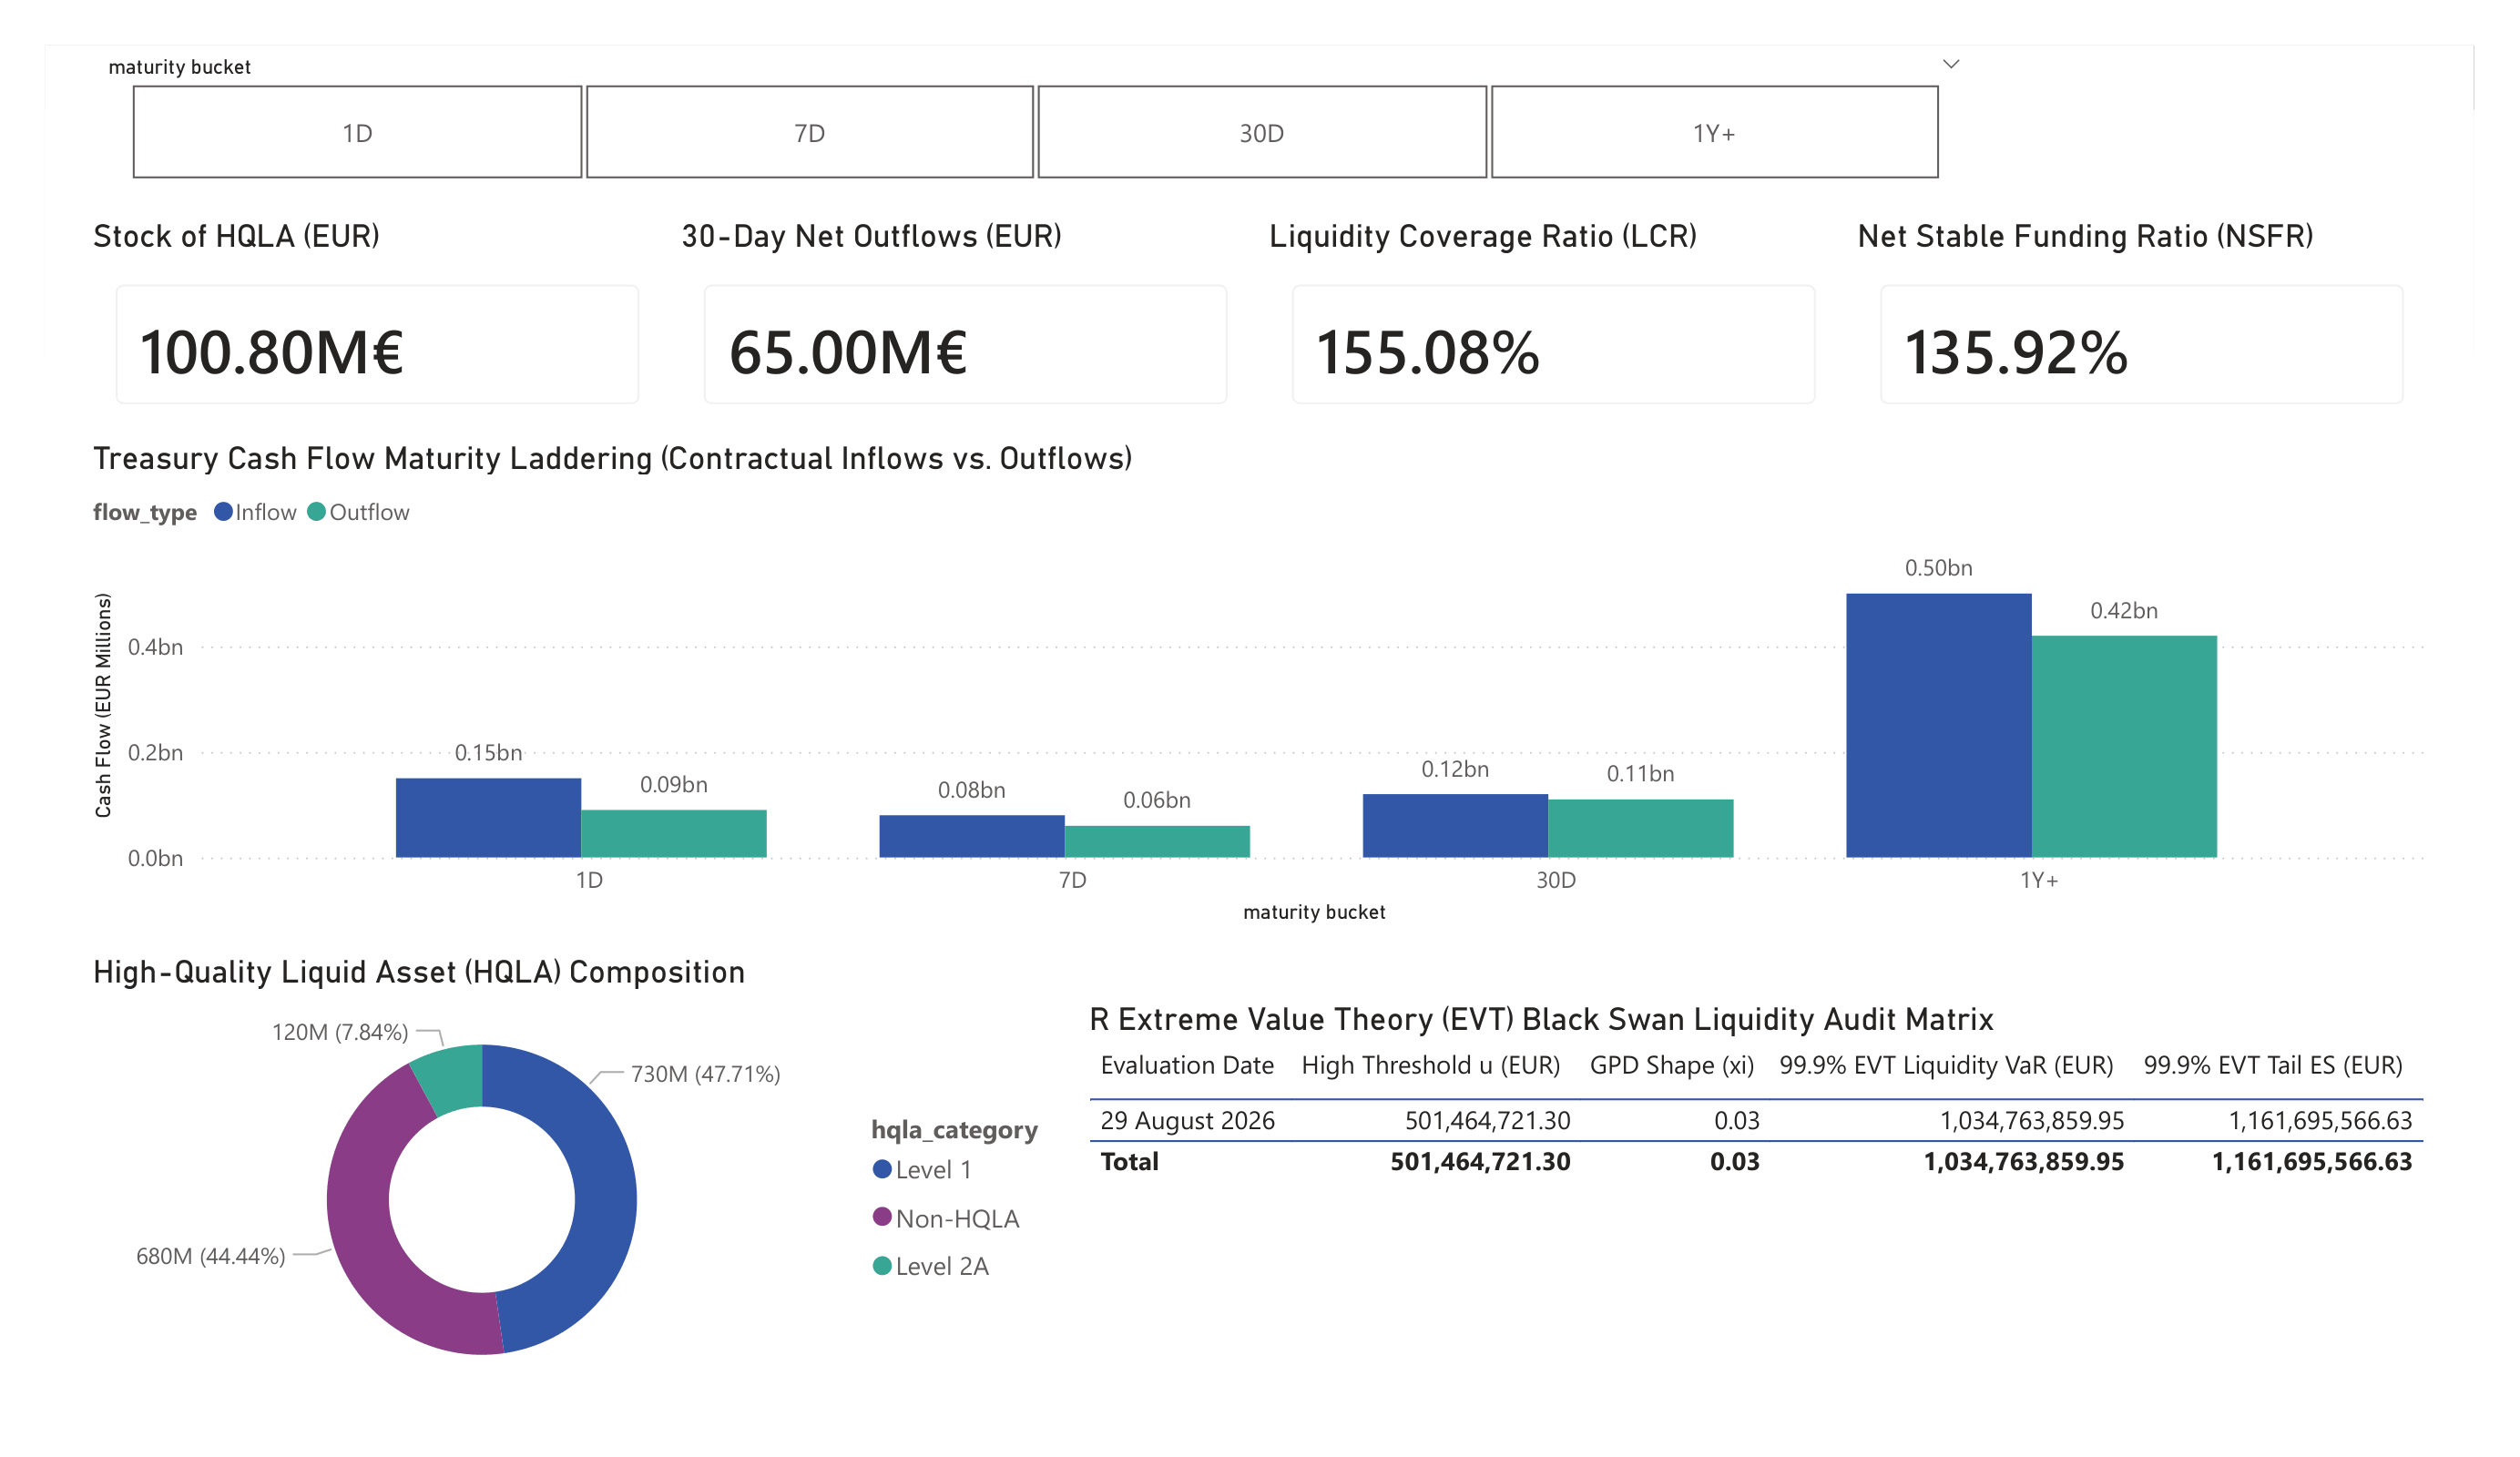

Layout of this report page (visuals, bound fields, positions):
{"tool":"powerbi","page":{"name":"1. Regulatory Liquidity (LCR/NSFR)","canvas":[1280,720],"ordinal":0},"visuals":[{"type":"cardVisual","title":"Stock of HQLA (EUR)","fields":{"Data":["_Liquidity & CCR Measures.Total Stock of HQLA EUR"]},"box":[20,90,310,116.7],"z":0},{"type":"cardVisual","title":"30-Day Net Outflows (EUR)","fields":{"Data":["_Liquidity & CCR Measures.30-Day Stressed Net Cash Outflows EUR"]},"box":[330,90,310,116.7],"z":1},{"type":"cardVisual","title":"Liquidity Coverage Ratio (LCR)","fields":{"Data":["_Liquidity & CCR Measures.Liquidity Coverage Ratio (LCR) %"]},"box":[640,90,310,116.7],"z":2},{"type":"cardVisual","title":"Net Stable Funding Ratio (NSFR)","fields":{"Data":["_Liquidity & CCR Measures.Net Stable Funding Ratio (NSFR) %"]},"box":[950,90,310,116.7],"z":3},{"type":"clusteredColumnChart","title":"Treasury Cash Flow Maturity Laddering (Contractual Inflows vs. Outflows)","fields":{"Category":["vw_cashflow_maturity_ladder.maturity_bucket"],"Y":["Sum(vw_cashflow_maturity_ladder.amount_eur)"],"Series":["vw_cashflow_maturity_ladder.flow_type"]},"box":[20,206.7,1240,261.7],"z":4},{"type":"donutChart","title":"High-Quality Liquid Asset (HQLA) Composition","fields":{"Category":["vw_cashflow_maturity_ladder.hqla_category"],"Y":["Sum(vw_cashflow_maturity_ladder.amount_eur)"]},"box":[20,478.3,525,241.7],"z":5},{"type":"tableEx","title":"R Extreme Value Theory (EVT) Black Swan Liquidity Audit Matrix","fields":{"Values":["vw_evt_liquidity_tail_risk_summary.calc_date","Sum(vw_evt_liquidity_tail_risk_summary.threshold_u)","Sum(vw_evt_liquidity_tail_risk_summary.gpd_shape_xi)","Sum(vw_evt_liquidity_tail_risk_summary.evt_var_999_eur)","Sum(vw_evt_liquidity_tail_risk_summary.evt_es_999_eur)"]},"box":[545,503.3,715,143.3],"z":6},{"type":"slicer","fields":{"Values":["vw_cashflow_maturity_ladder.maturity_bucket"]},"box":[20,0,1001.7,76.7],"z":7}]}

Visuals, with their boxes on the page's 1280x720 design canvas (x1, y1, x2, y2). These are canvas units, not pixel positions in the 2520x1457 screenshot, which may show the page scaled, cropped or inside an application window:
"Stock of HQLA (EUR)" cardVisual: bbox(20, 90, 330, 207)
"30-Day Net Outflows (EUR)" cardVisual: bbox(330, 90, 640, 207)
"Liquidity Coverage Ratio (LCR)" cardVisual: bbox(640, 90, 950, 207)
"Net Stable Funding Ratio (NSFR)" cardVisual: bbox(950, 90, 1260, 207)
"Treasury Cash Flow Maturity Laddering (Contractual Inflows vs. Outflows)" clusteredColumnChart: bbox(20, 207, 1260, 468)
"High-Quality Liquid Asset (HQLA) Composition" donutChart: bbox(20, 478, 545, 720)
"R Extreme Value Theory (EVT) Black Swan Liquidity Audit Matrix" tableEx: bbox(545, 503, 1260, 647)
slicer - vw_cashflow_maturity_ladder.maturity_bucket: bbox(20, 0, 1022, 77)
